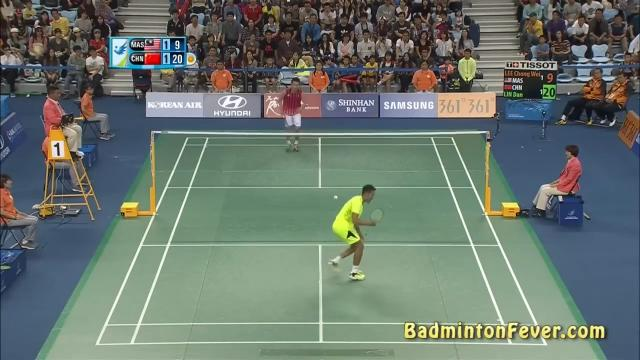Shuttlecock: (331, 194, 342, 200)
